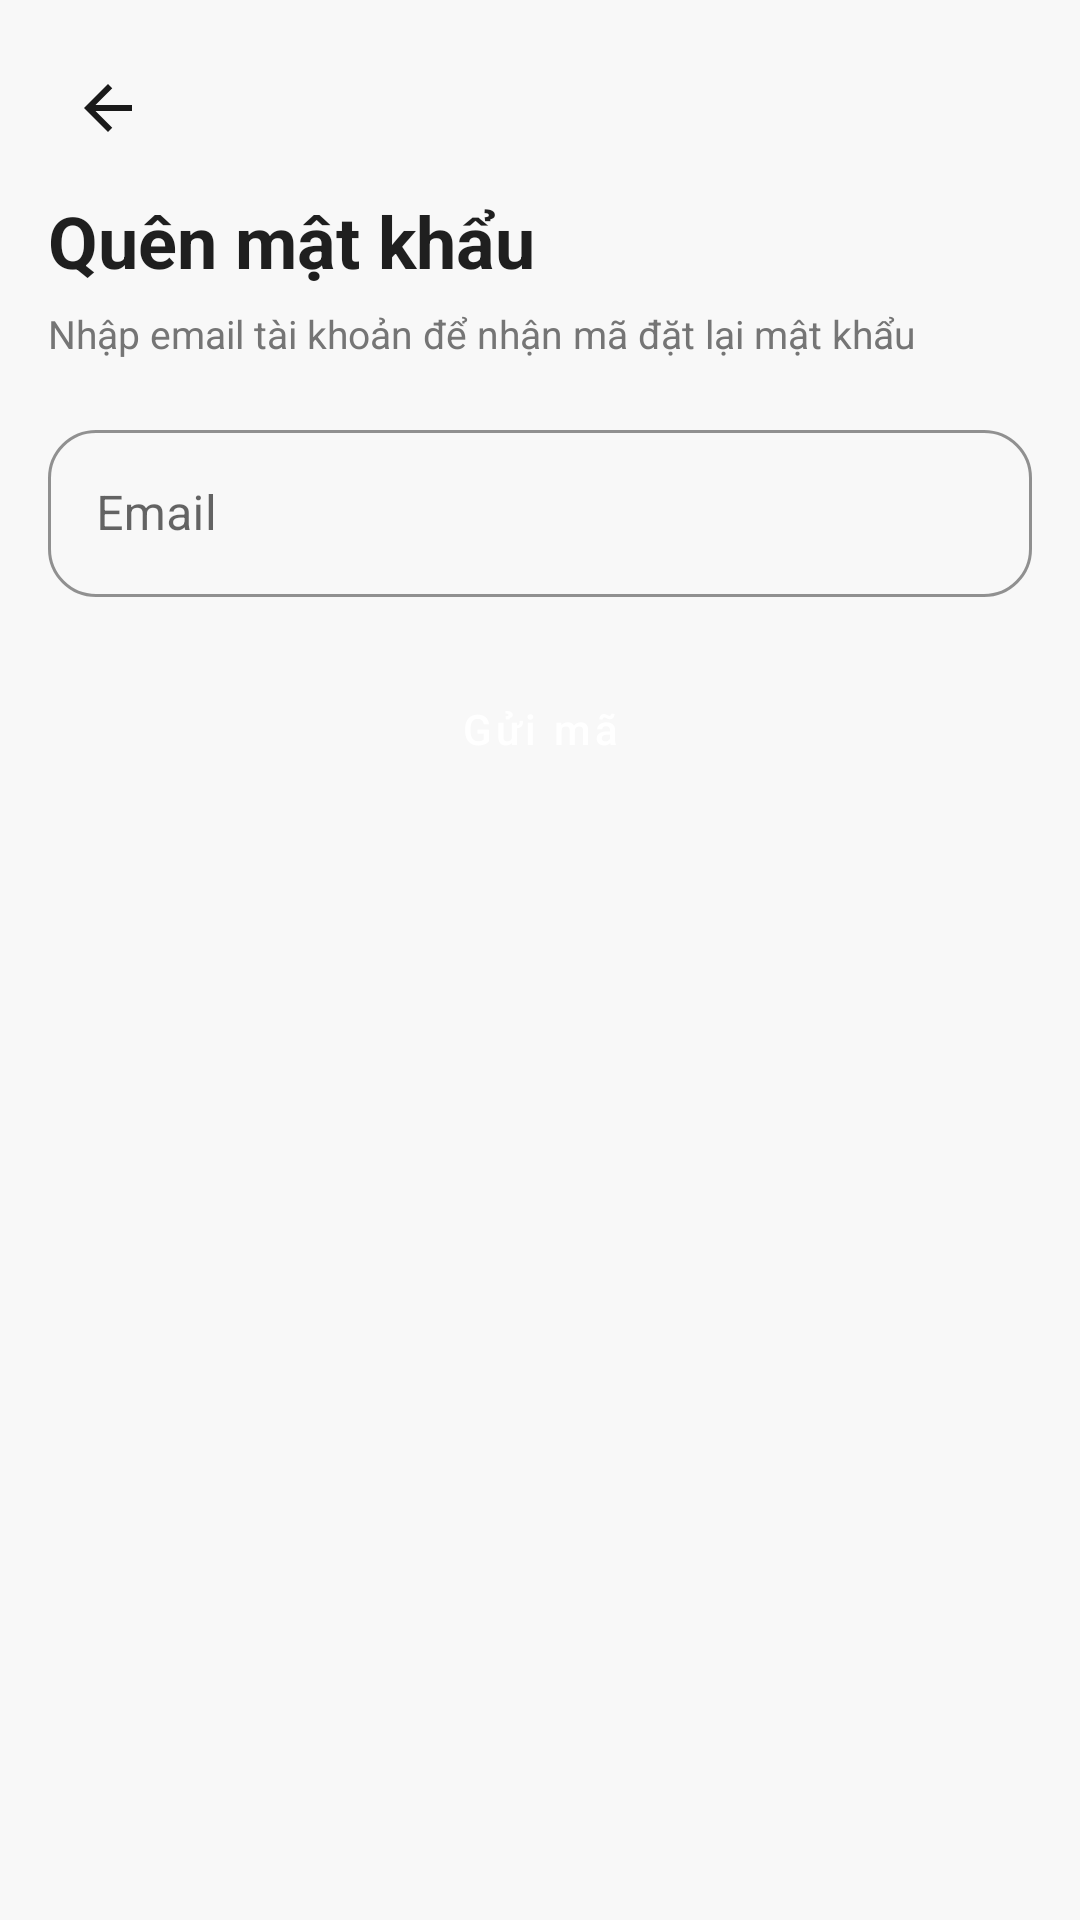

Named icons in this screenshot (1080px×1920px) and their bounding boxes, [left=x1, top=y1, right=x2, bottom=y2]:
Quay lại: [left=84, top=84, right=132, bottom=132]
